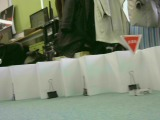stop: (117, 33, 143, 57)
